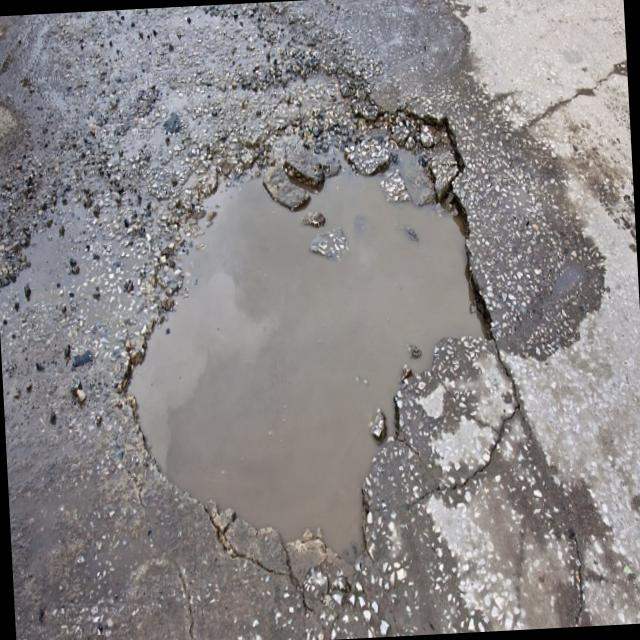Potholes: (68, 84, 590, 629)
